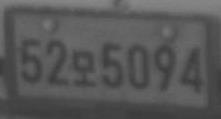0: (127, 44, 150, 90)
2: (45, 40, 69, 86)
4: (179, 47, 205, 92)
5: (20, 38, 43, 85), (101, 43, 124, 87)
9: (153, 44, 176, 91)
모: (72, 49, 97, 88)
